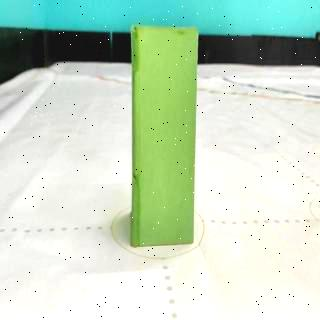greenbox: (128, 22, 200, 248)
